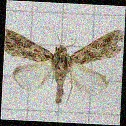Spodoptera litura: (3, 26, 123, 105)
